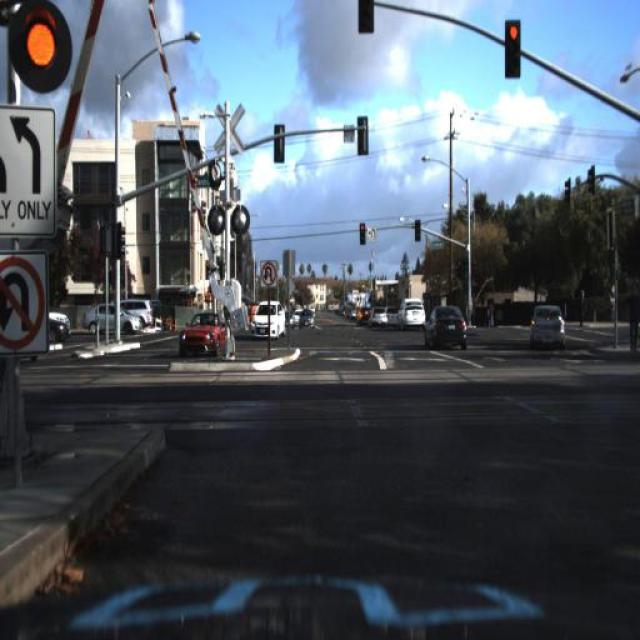car: (524, 290, 572, 362), (420, 293, 470, 359), (176, 306, 237, 360), (79, 302, 145, 342), (246, 298, 292, 347), (395, 296, 427, 338), (36, 316, 70, 346), (364, 298, 390, 332), (400, 298, 428, 328), (46, 320, 70, 354), (295, 302, 316, 330), (48, 308, 76, 328), (355, 301, 373, 328), (366, 302, 386, 324), (356, 303, 368, 331)
trafficLight: (622, 280, 638, 364), (575, 284, 590, 334)
trafficLight-Green: (503, 18, 521, 78), (356, 210, 372, 250), (412, 214, 422, 242)
trafficLight-GreenLeft: (459, 250, 470, 282)
trafficLight-RedLeft: (0, 0, 106, 101), (496, 12, 529, 87)
